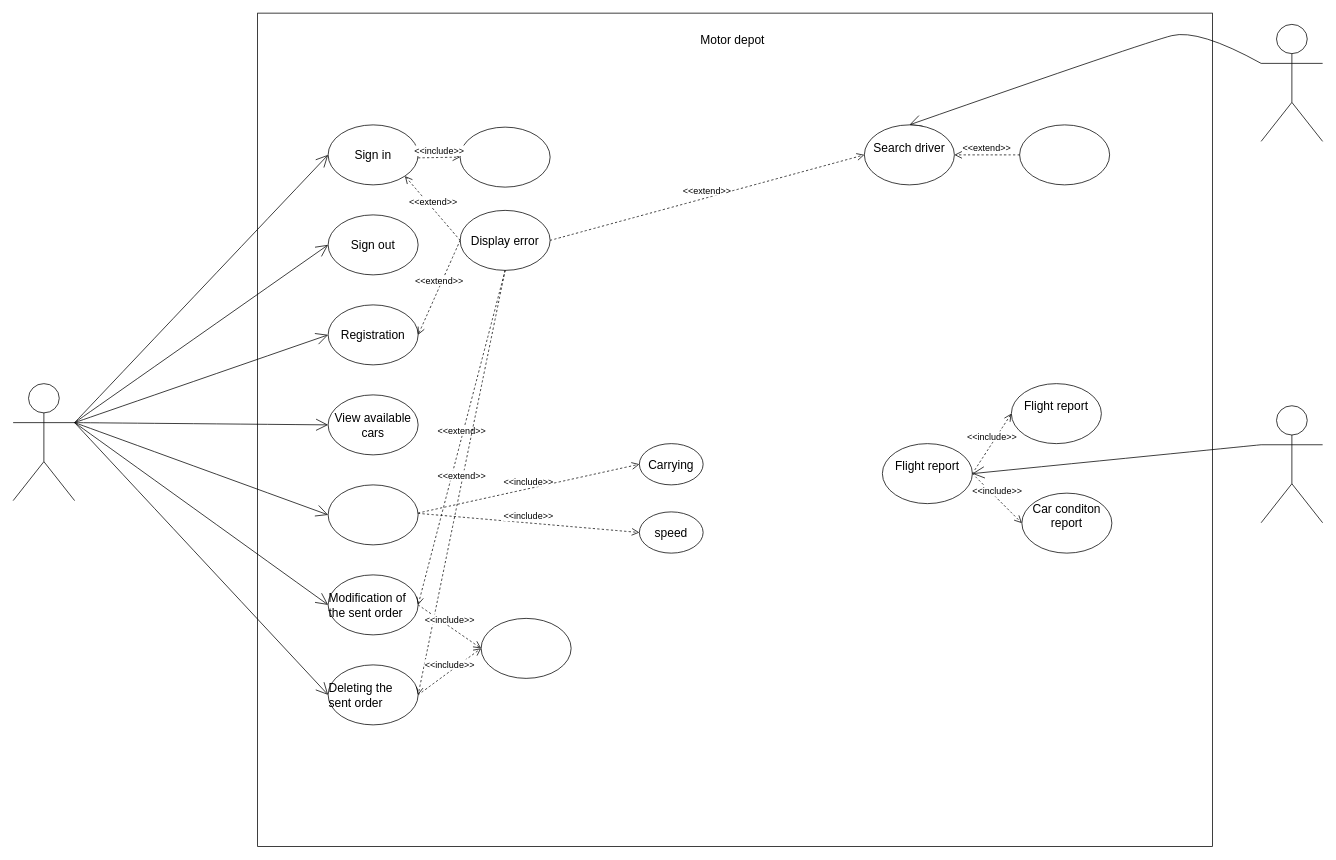
Image size: 1336x860. Some labels were removed from this diagram. Each missing label, with the centre of its shape:
"Client" goes at [43,442].
"Dispatcher" goes at [1291,82].
"Distribute an order to the driver" goes at [1064,154].
"Driver" goes at [1291,464].
"Enter order id" goes at [525,648].
"Making and sending an order" goes at [372,514].
"Verification" goes at [504,156].
